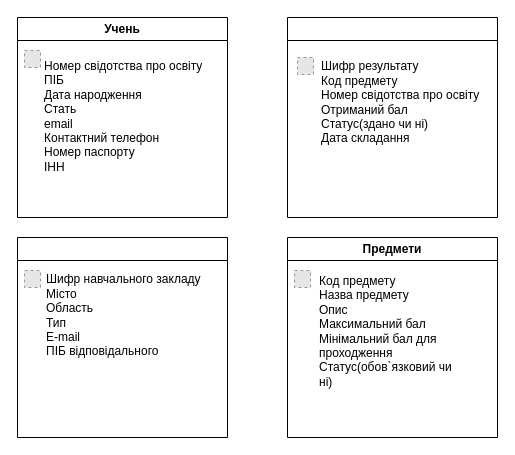
This 515x455 diagram has some shape labels left out. Grey dashed boxes stand in for pictures. The shapes that lost their labels are listed below. From the top down, each one's box as (x1, y1, x2, y2) in pixels, then its label:
(286, 16, 498, 218): Результат тесту
(16, 236, 228, 438): Навчальний заклад
